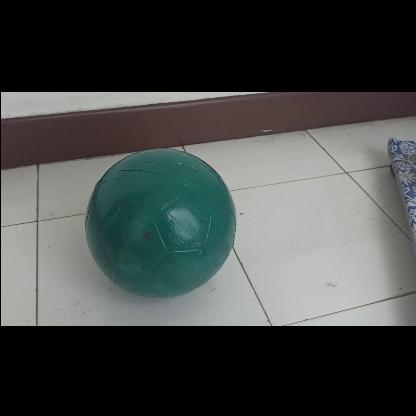green_ball: (82, 148, 232, 298)
